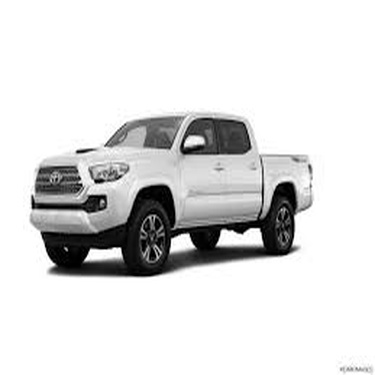car: (27, 105, 315, 276)
